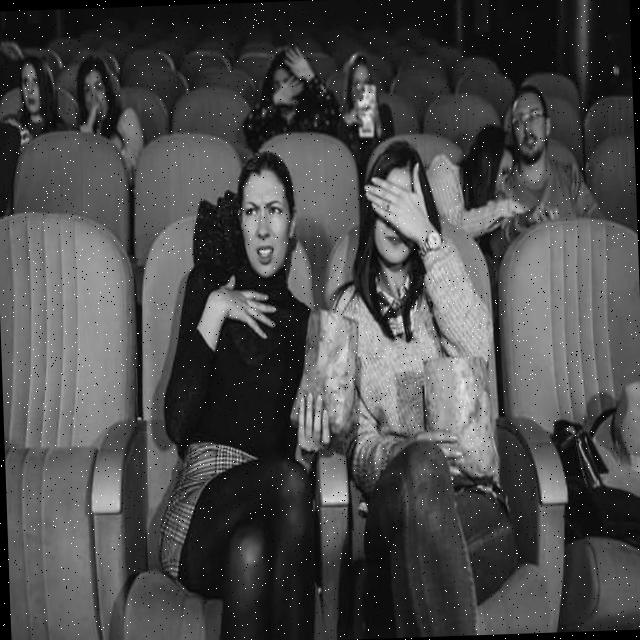Fear: (242, 170, 292, 278)
